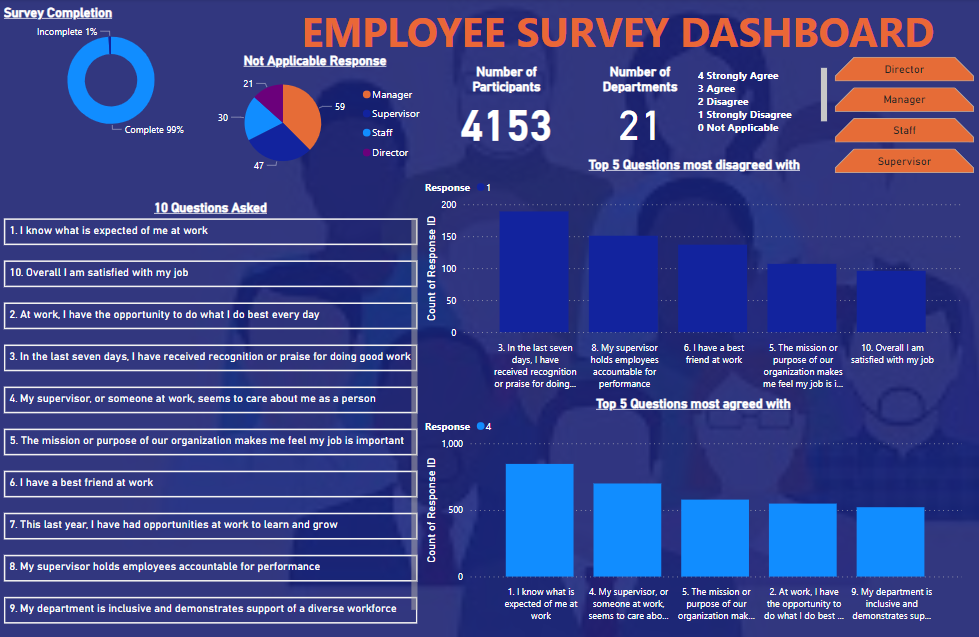

What the dashboard file says about the page in this screenshot:
{"tool":"powerbi","page":{"name":"Page 1","canvas":[1280,837],"ordinal":0},"visuals":[{"type":"card","title":"Number of Departments","fields":{"Values":["Count(Employee Survey - HR Survey Reponses.Department)"]},"box":[742.8,85,188.3,108.5],"z":0},{"type":"textbox","box":[336.7,0,943.3,84.8],"z":1000},{"type":"lineClusteredColumnComboChart","title":"Top 5 Questions most disagreed with","fields":{"Category":["Employee Survey - HR Survey Reponses.Question"],"Y":["CountNonNull(Employee Survey - HR Survey Reponses.Response ID)"],"Series":["Employee Survey - HR Survey Reponses.Response"]},"box":[550.4,207,715,312.5],"z":2000},{"type":"columnChart","title":"Top 5 Questions most agreed with","fields":{"Series":["Employee Survey - HR Survey Reponses.Response"],"Y":["CountNonNull(Employee Survey - HR Survey Reponses.Response ID)"],"Category":["Employee Survey - HR Survey Reponses.Question"]},"box":[550.4,519.5,712.4,303.5],"z":3000},{"type":"textbox","box":[907.6,85,179.2,100.7],"z":4000},{"type":"multiRowCard","title":"10 Questions Asked","fields":{"Values":["Employee Survey - HR Survey Reponses.Question"]},"box":[0,262.9,550.6,559.7],"z":5000},{"type":"donutChart","title":"Survey Completion","fields":{"Category":["Employee Survey - HR Survey Reponses.Status"],"Y":["Count(Employee Survey - HR Survey Reponses.Response ID)"]},"box":[0,7.8,290.3,177.9],"z":6000},{"type":"card","title":"Number of Participants","fields":{"Values":["CountNonNull(Employee Survey - HR Survey Reponses.Employee Category)"]},"box":[582,85,160.9,108.5],"z":7000},{"type":"pieChart","title":"Not Applicable Response","fields":{"Y":["CountNonNull(Employee Survey - HR Survey Reponses.Response ID)"],"Category":["Employee Survey - HR Survey Reponses.Employee Role"]},"box":[261.6,70.6,300.8,163.5],"z":8000},{"type":"advancedSlicerVisual","fields":{"Values":["Employee Survey - HR Survey Reponses.Employee Role"]},"box":[1086.8,70.6,192.2,163.5],"z":9000}]}

Visuals, with their boxes in screenshot pixels (x1, y1, x2, y2), scaled from the page's 1280x837 canvas onto the 979x637 screenshot:
"Number of Departments" card: [left=568, top=65, right=712, bottom=147]
textbox: [left=258, top=0, right=978, bottom=65]
"Top 5 Questions most disagreed with" lineClusteredColumnComboChart: [left=421, top=158, right=968, bottom=395]
"Top 5 Questions most agreed with" columnChart: [left=421, top=395, right=966, bottom=626]
textbox: [left=694, top=65, right=831, bottom=141]
"10 Questions Asked" multiRowCard: [left=0, top=200, right=421, bottom=626]
"Survey Completion" donutChart: [left=0, top=6, right=222, bottom=141]
"Number of Participants" card: [left=445, top=65, right=568, bottom=147]
"Not Applicable Response" pieChart: [left=200, top=54, right=430, bottom=178]
advancedSlicerVisual - Employee Survey - HR Survey Reponses.Employee Role: [left=831, top=54, right=978, bottom=178]
